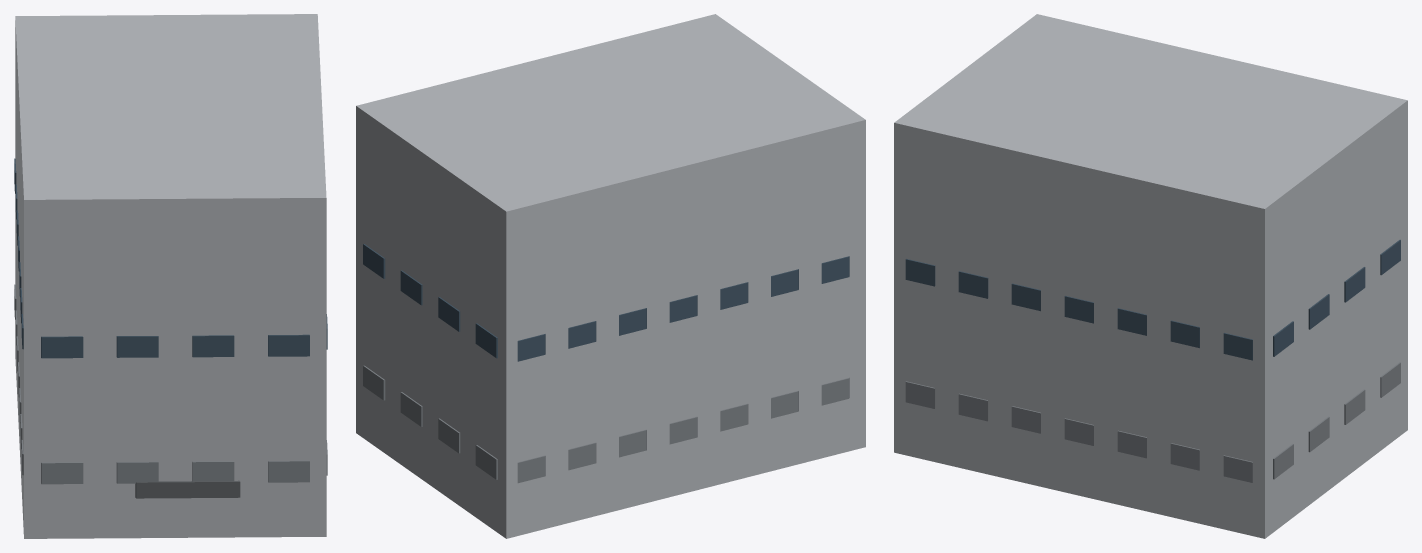
The model's file is doitt-584049__lod_0.glb.
3 views of the same model, side by side, from view 1: azimuth 30°, elevation 25°; view 2: azimuth 150°, elevation 25°; view 3: azimuth 270°, elevation 25° (orthographic). The views are drawn at different scales.
Visible parts, largest first — view 1: doitt:584049__lod_0__estimated_mass, doitt:584049__lod_0__sign_carrier_storefront:osm:node:109088, doitt:584049__lod_0__facade_01_01_03, doitt:584049__lod_0__facade_01_00_03, doitt:584049__lod_0__facade_01_01_01, doitt:584049__lod_0__facade_01_01_02, doitt:584049__lod_0__facade_01_00_00, doitt:584049__lod_0__facade_01_01_00, doitt:584049__lod_0__facade_01_00_02, doitt:584049__lod_0__facade_01_00_01; view 2: doitt:584049__lod_0__estimated_mass, doitt:584049__lod_0__facade_04_00_00, doitt:584049__lod_0__facade_04_01_03, doitt:584049__lod_0__facade_04_00_06, doitt:584049__lod_0__facade_04_01_02, doitt:584049__lod_0__facade_04_01_00, doitt:584049__lod_0__facade_04_01_05, doitt:584049__lod_0__facade_04_00_02, doitt:584049__lod_0__facade_04_00_05, doitt:584049__lod_0__facade_04_00_03, doitt:584049__lod_0__facade_04_01_06, doitt:584049__lod_0__facade_04_00_01 (+3 smaller); view 3: doitt:584049__lod_0__estimated_mass, doitt:584049__lod_0__facade_00_00_05, doitt:584049__lod_0__facade_00_01_06, doitt:584049__lod_0__facade_00_00_06, doitt:584049__lod_0__facade_00_01_05, doitt:584049__lod_0__facade_00_00_01, doitt:584049__lod_0__facade_00_01_02, doitt:584049__lod_0__facade_00_01_04, doitt:584049__lod_0__facade_00_00_02, doitt:584049__lod_0__facade_00_00_04, doitt:584049__lod_0__facade_00_01_00, doitt:584049__lod_0__facade_00_01_01 (+3 smaller).
Boxes of the visible parts, x1,y1,x2,y2 form: doitt:584049__lod_0__estimated_mass: (15, 14, 326, 538); doitt:584049__lod_0__sign_carrier_storefront:osm:node:109088: (135, 480, 240, 498); doitt:584049__lod_0__facade_01_01_03: (41, 336, 83, 358); doitt:584049__lod_0__facade_01_00_03: (41, 462, 83, 484); doitt:584049__lod_0__facade_01_01_01: (192, 335, 234, 357); doitt:584049__lod_0__facade_01_01_02: (116, 336, 158, 357); doitt:584049__lod_0__facade_01_00_00: (268, 460, 309, 482); doitt:584049__lod_0__facade_01_01_00: (268, 334, 309, 356); doitt:584049__lod_0__facade_01_00_02: (116, 461, 158, 483); doitt:584049__lod_0__facade_01_00_01: (192, 461, 234, 481); doitt:584049__lod_0__estimated_mass: (356, 14, 865, 538); doitt:584049__lod_0__facade_04_00_00: (821, 377, 849, 405); doitt:584049__lod_0__facade_04_01_03: (669, 295, 697, 322); doitt:584049__lod_0__facade_04_00_06: (517, 455, 545, 483); doitt:584049__lod_0__facade_04_01_02: (720, 282, 748, 309); doitt:584049__lod_0__facade_04_01_00: (821, 256, 849, 283); doitt:584049__lod_0__facade_04_01_05: (568, 321, 596, 348); doitt:584049__lod_0__facade_04_00_02: (720, 403, 748, 431); doitt:584049__lod_0__facade_04_00_05: (568, 442, 596, 470); doitt:584049__lod_0__facade_04_00_03: (669, 416, 697, 444); doitt:584049__lod_0__facade_04_01_06: (517, 334, 545, 361); doitt:584049__lod_0__facade_04_00_01: (771, 390, 798, 418); doitt:584049__lod_0__estimated_mass: (894, 14, 1407, 538); doitt:584049__lod_0__facade_00_00_05: (958, 393, 988, 421); doitt:584049__lod_0__facade_00_01_06: (905, 258, 935, 286); doitt:584049__lod_0__facade_00_00_06: (905, 381, 935, 408); doitt:584049__lod_0__facade_00_01_05: (958, 271, 988, 298); doitt:584049__lod_0__facade_00_00_01: (1170, 443, 1199, 470); doitt:584049__lod_0__facade_00_01_02: (1117, 308, 1146, 335); doitt:584049__lod_0__facade_00_01_04: (1011, 283, 1040, 311); doitt:584049__lod_0__facade_00_00_02: (1117, 430, 1146, 458); doitt:584049__lod_0__facade_00_00_04: (1011, 406, 1040, 433); doitt:584049__lod_0__facade_00_01_00: (1223, 332, 1252, 360); doitt:584049__lod_0__facade_00_01_01: (1170, 320, 1199, 348).
Bounding box in the file's own units: 29.6 × 23.34 × 32.94.
